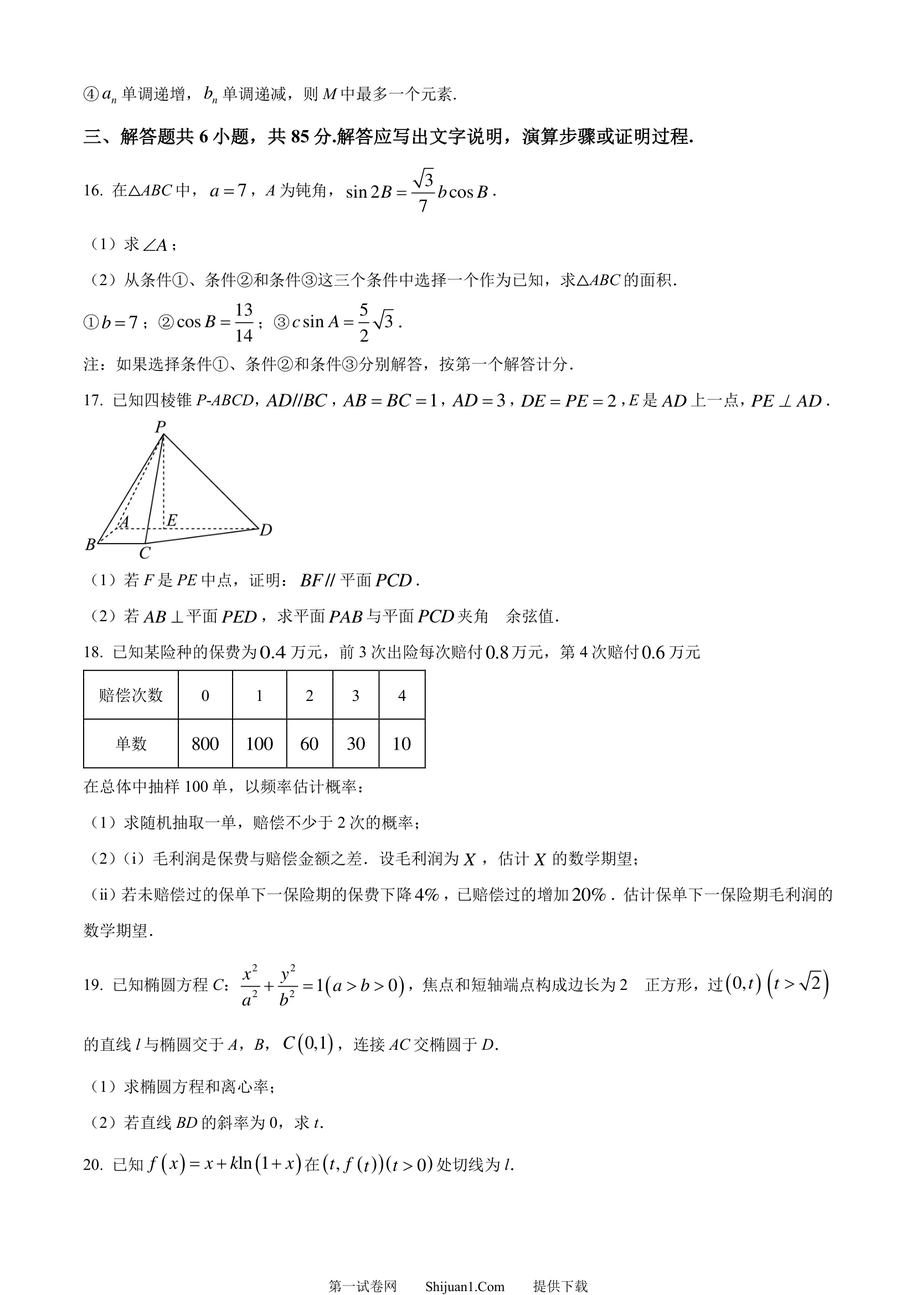question: (70, 632, 863, 950), (70, 382, 863, 634), (70, 952, 841, 1200), (73, 167, 730, 382), (80, 71, 480, 109)
